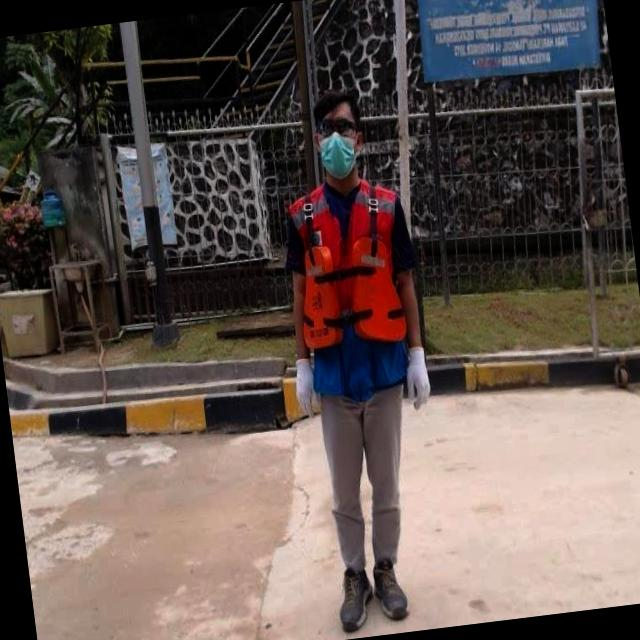vest: (288, 174, 423, 400)
